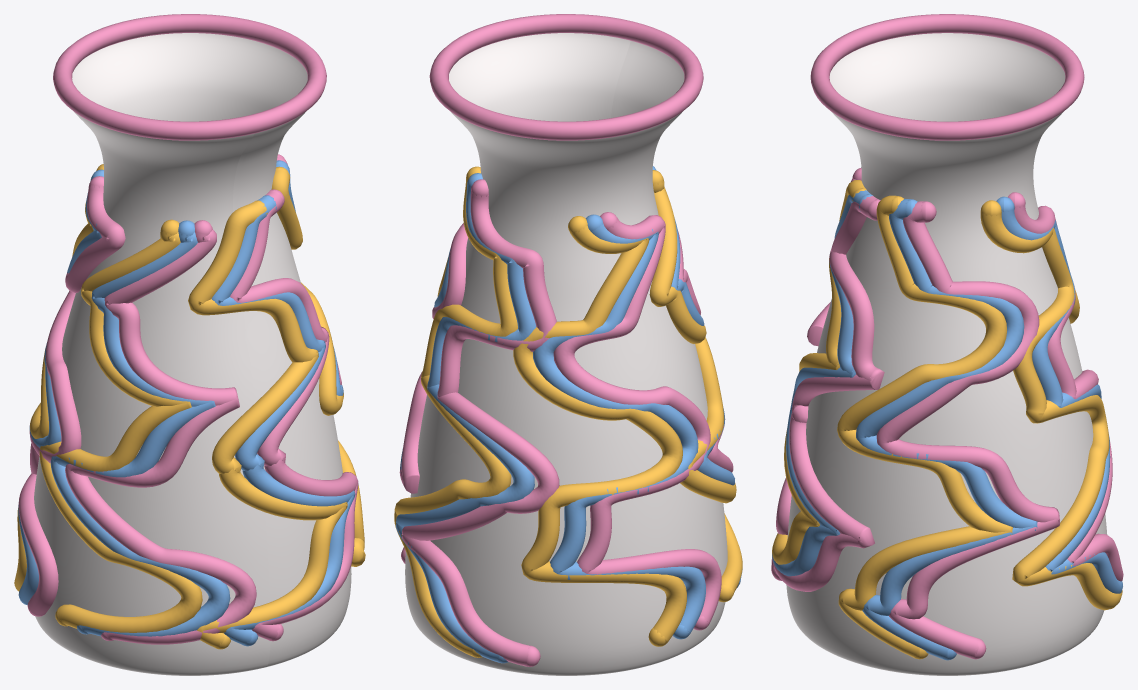
Rendered from vas-squiggle.glb.
3 renders of one model, left to right at view 1: azimuth 30°, elevation 25°; view 2: azimuth 150°, elevation 25°; view 3: azimuth 270°, elevation 25°, orthographic.
Visible parts, largest first — view 1: Vas_Squiggle; view 2: Vas_Squiggle; view 3: Vas_Squiggle.
Part boxes in pixels (x1,y1,x2,y2): Vas_Squiggle: [14, 14, 365, 675]; Vas_Squiggle: [394, 14, 742, 675]; Vas_Squiggle: [771, 14, 1123, 675].
Size of the model in its own units: 0.1105 by 0.1894 by 0.1105.
